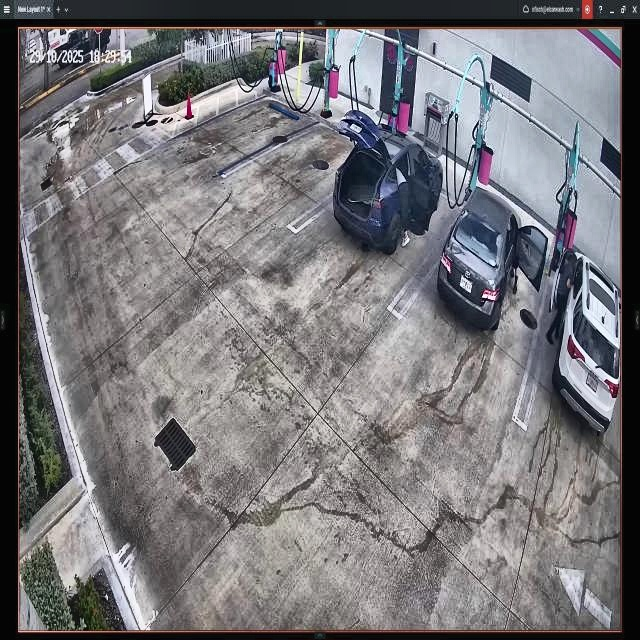Car: (334, 108, 444, 252), (441, 187, 546, 333)
